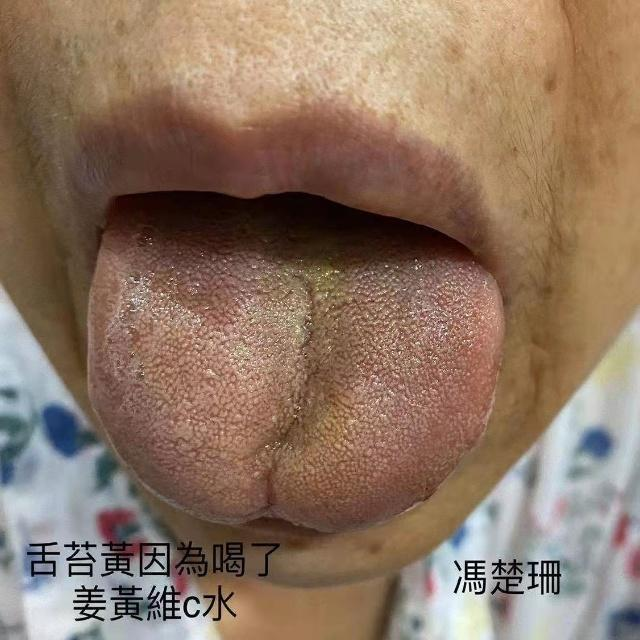baitaishe: (86, 227, 504, 534)
pangdashe: (84, 225, 502, 532)
xinfeiao: (224, 502, 326, 535)
